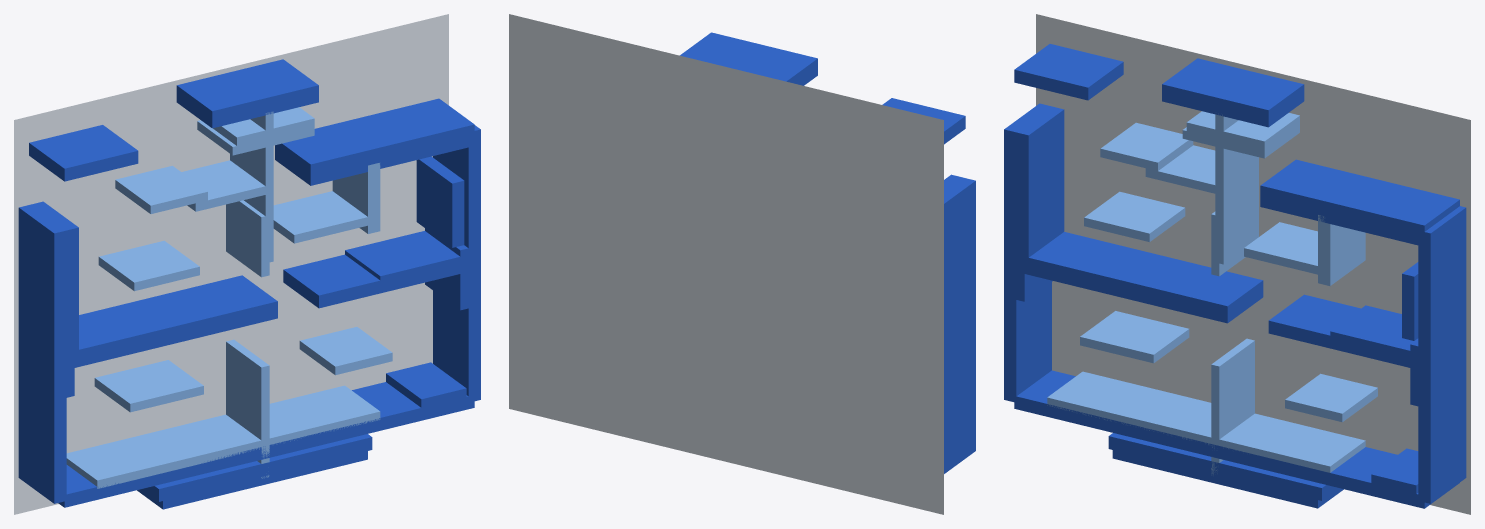
Rendered from e616ccc0-9244-4434-bc11-173a81f39fc3.obj.
3 renders of one model, left to right at view 1: azimuth 30°, elevation 25°; view 2: azimuth 150°, elevation 25°; view 3: azimuth 330°, elevation 25°, orthographic.
Bounding box in the file's own units: 21.2 × 18.4 × 3.05.
